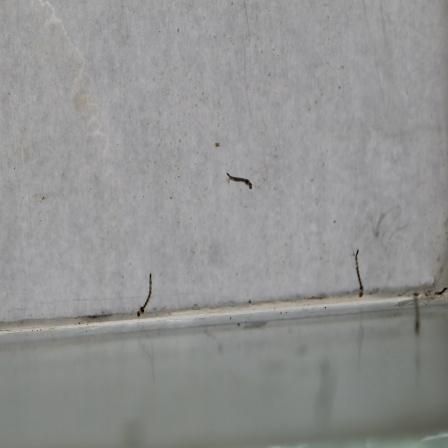Jentik-Nyamuk: (135, 271, 157, 322), (352, 247, 366, 301), (226, 170, 256, 193)
